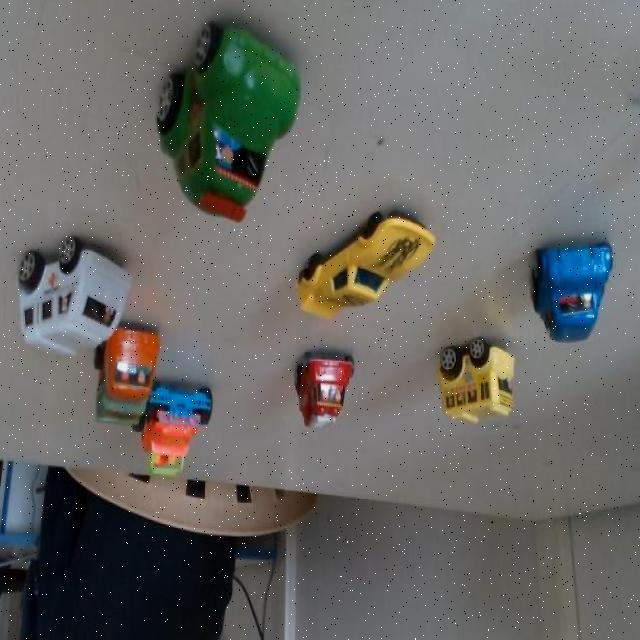car: (142, 16, 314, 223), (15, 216, 144, 377), (296, 203, 432, 329), (531, 232, 618, 346), (428, 326, 518, 428), (141, 383, 221, 485), (282, 336, 356, 440), (94, 322, 160, 436)
